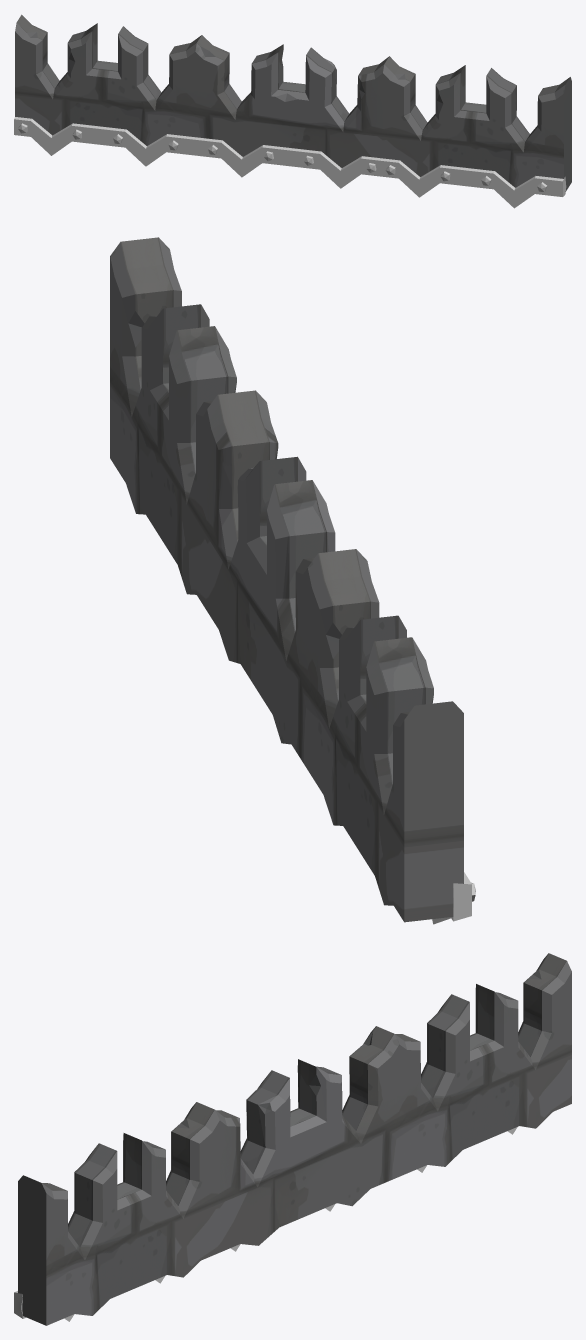
File: SM_Bld_45_Battlements_02.fbx
3 views of the same model, one above another, from view 1: azimuth 30°, elevation 25°; view 2: azimuth 150°, elevation 25°; view 3: azimuth 270°, elevation 25° (orthographic). The views are drawn at different scales.
Parts seen in each view (by area): view 1: SM_Bld_45_Battlements_02; view 2: SM_Bld_45_Battlements_02; view 3: SM_Bld_45_Battlements_02.
Boxes of the visible parts, box(x1,y1,x2,y2) form: SM_Bld_45_Battlements_02: box(14, 14, 571, 208); SM_Bld_45_Battlements_02: box(110, 237, 475, 924); SM_Bld_45_Battlements_02: box(14, 953, 571, 1325).
Size of the model in its own units: 548 by 181 by 548.
